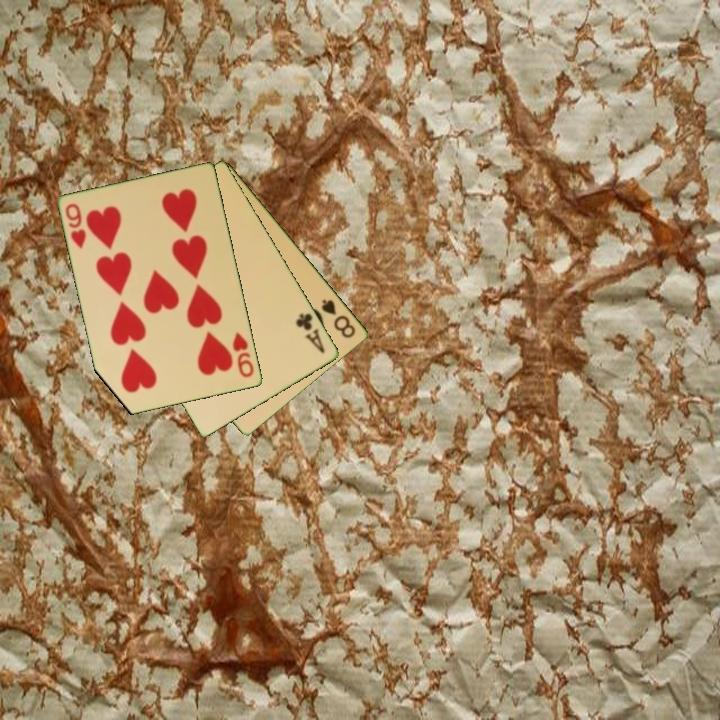8s: (318, 296, 359, 341)
9h: (229, 328, 257, 381), (62, 200, 89, 252)
Ac: (292, 310, 328, 357)
